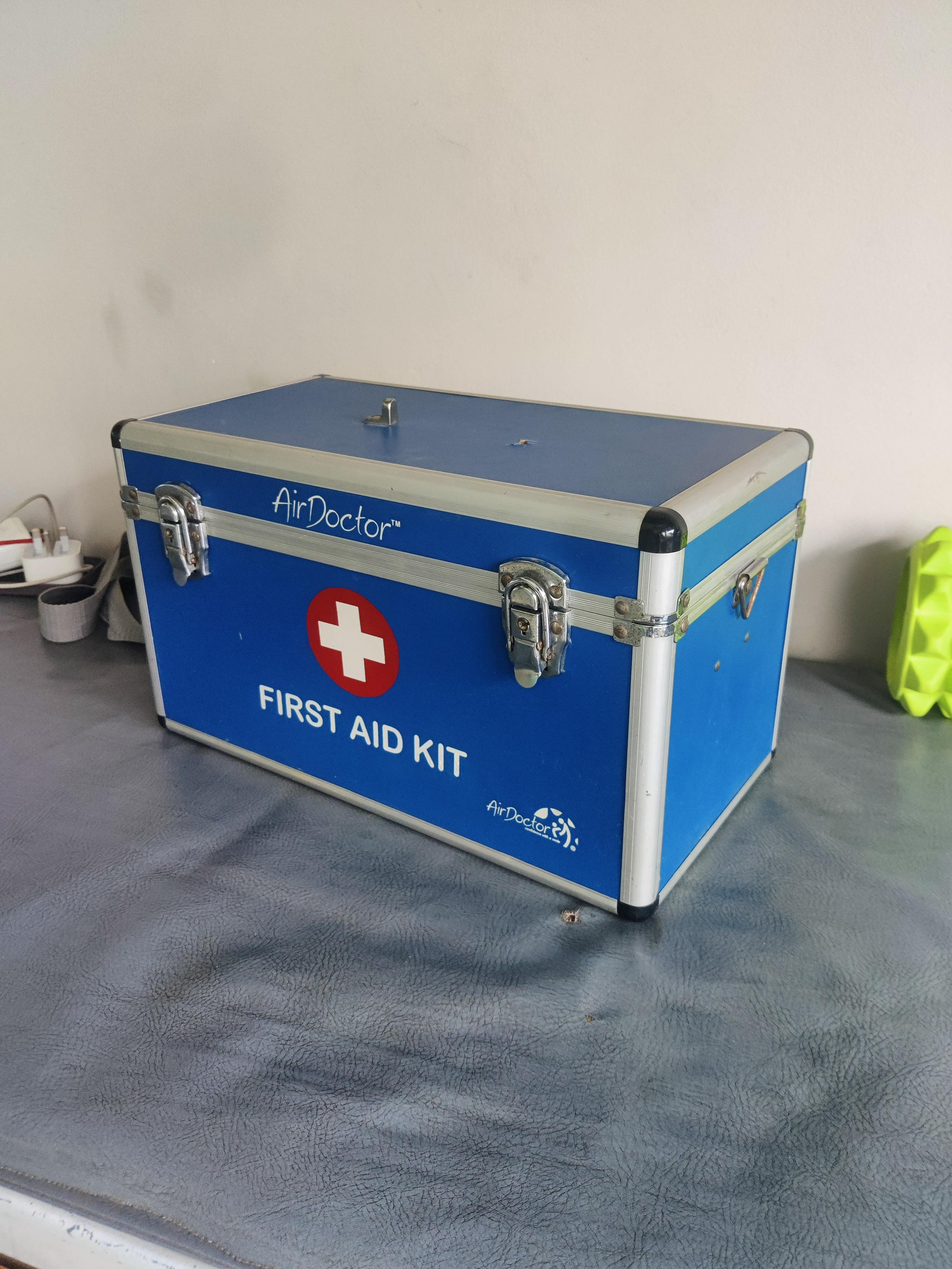FirstAidBox: (90, 347, 824, 971)
